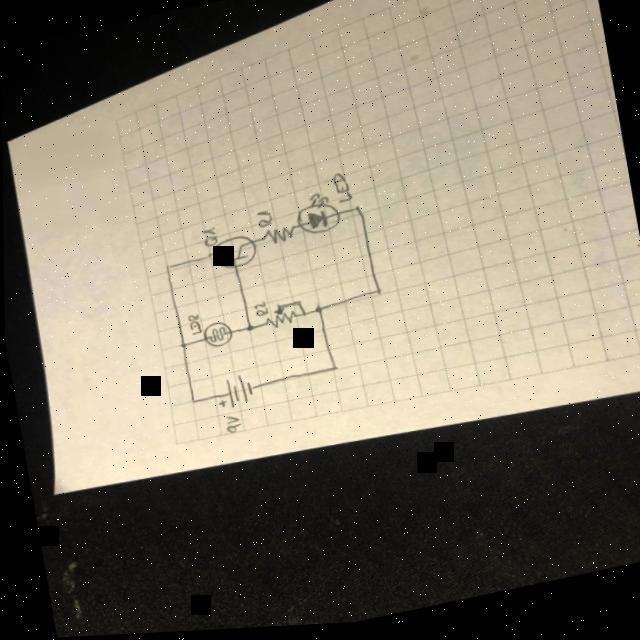diode: (290, 192, 342, 243)
junction: (177, 343, 189, 353), (242, 327, 254, 336), (160, 265, 172, 274), (371, 291, 383, 300), (349, 208, 361, 217), (327, 367, 338, 376), (311, 310, 321, 318), (187, 401, 197, 409)
resistor: (199, 322, 233, 354), (259, 309, 297, 335), (257, 228, 295, 251)
source: (211, 375, 253, 414)
text: (329, 175, 352, 209), (198, 230, 218, 251), (221, 417, 240, 438), (254, 212, 272, 233), (186, 315, 201, 339), (251, 302, 267, 321)
transistor: (207, 235, 258, 276)
